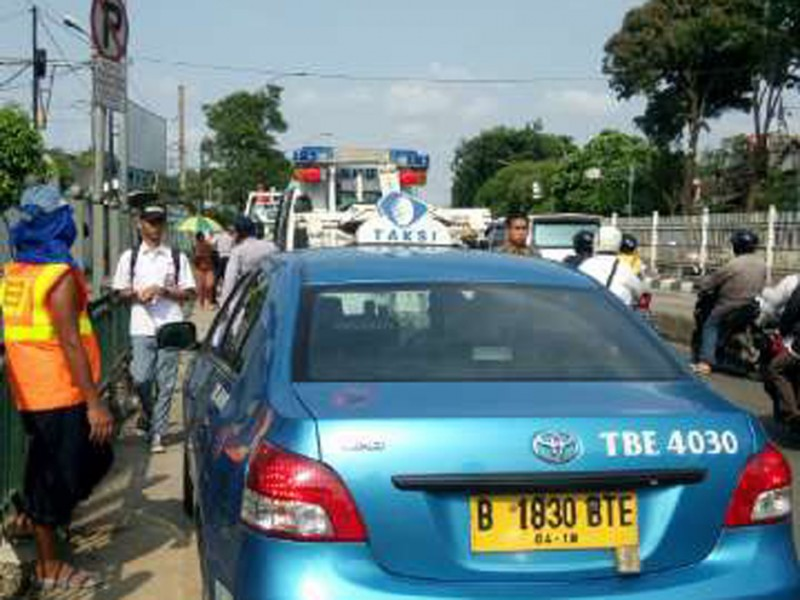plate: (473, 491, 639, 555)
